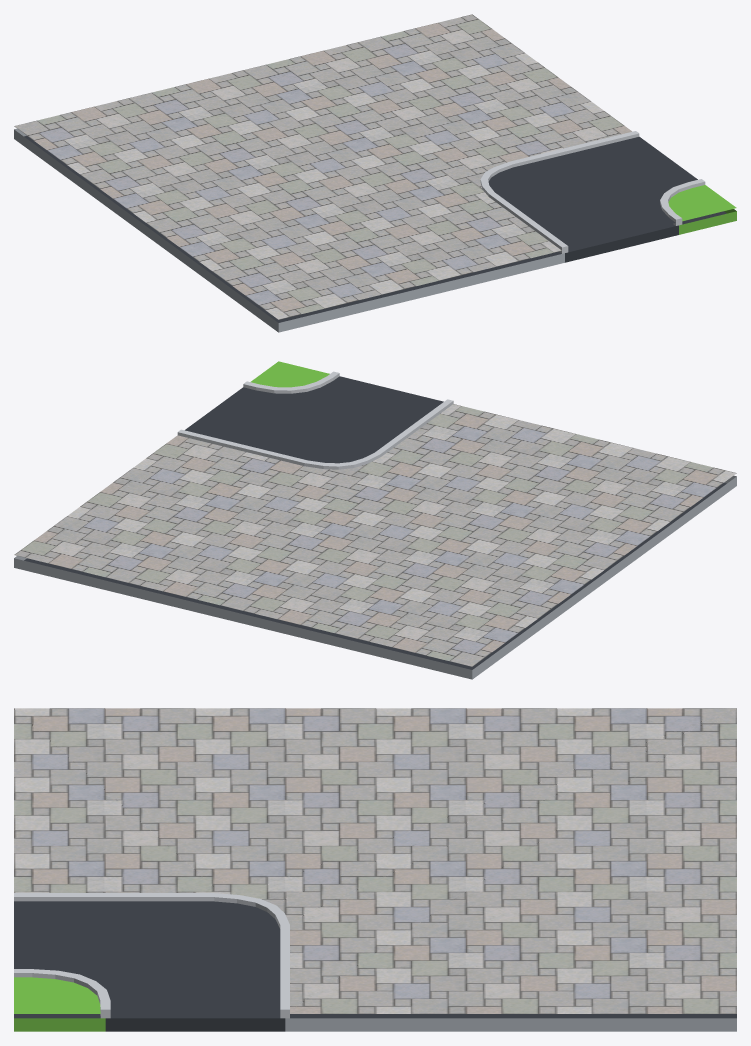
Rendered from set_b_tiles_06_pacote.glb.
3 renders of one model, top to bottom at view 1: azimuth 30°, elevation 25°; view 2: azimuth 150°, elevation 25°; view 3: azimuth 270°, elevation 25°, orthographic. The views are drawn at different scales.
Parts seen in each view (by area): view 1: set_b_tiles_06_pacote; view 2: set_b_tiles_06_pacote; view 3: set_b_tiles_06_pacote.
Boxes of the visible parts, bbox=[...] form: set_b_tiles_06_pacote: bbox=[14, 14, 736, 332]; set_b_tiles_06_pacote: bbox=[14, 361, 736, 679]; set_b_tiles_06_pacote: bbox=[14, 708, 736, 1031].
Bounding box in the file's own units: 15 × 0.5 × 15.
2 materials, 2 textured.
